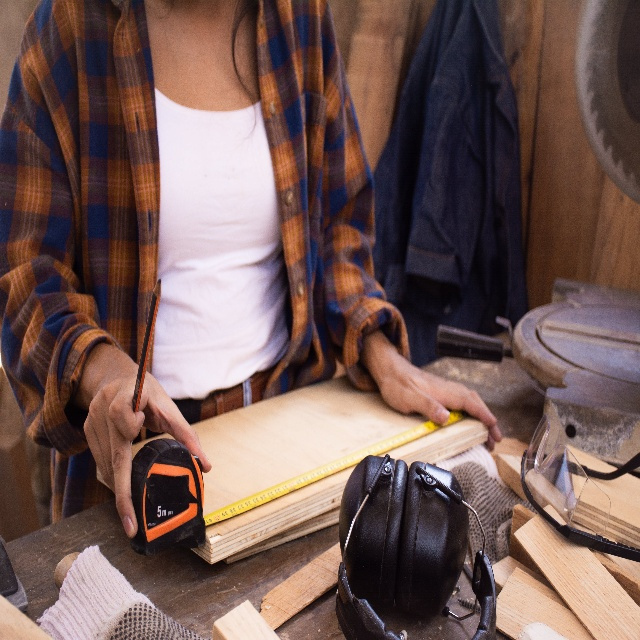Gafas: (518, 403, 640, 561)
Sin_guantes: (80, 371, 213, 537), (381, 351, 504, 456)
